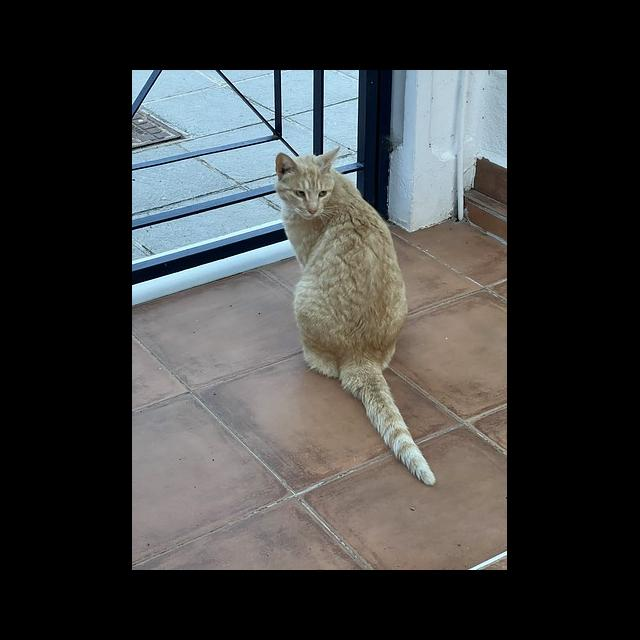animals: (276, 145, 435, 486)
